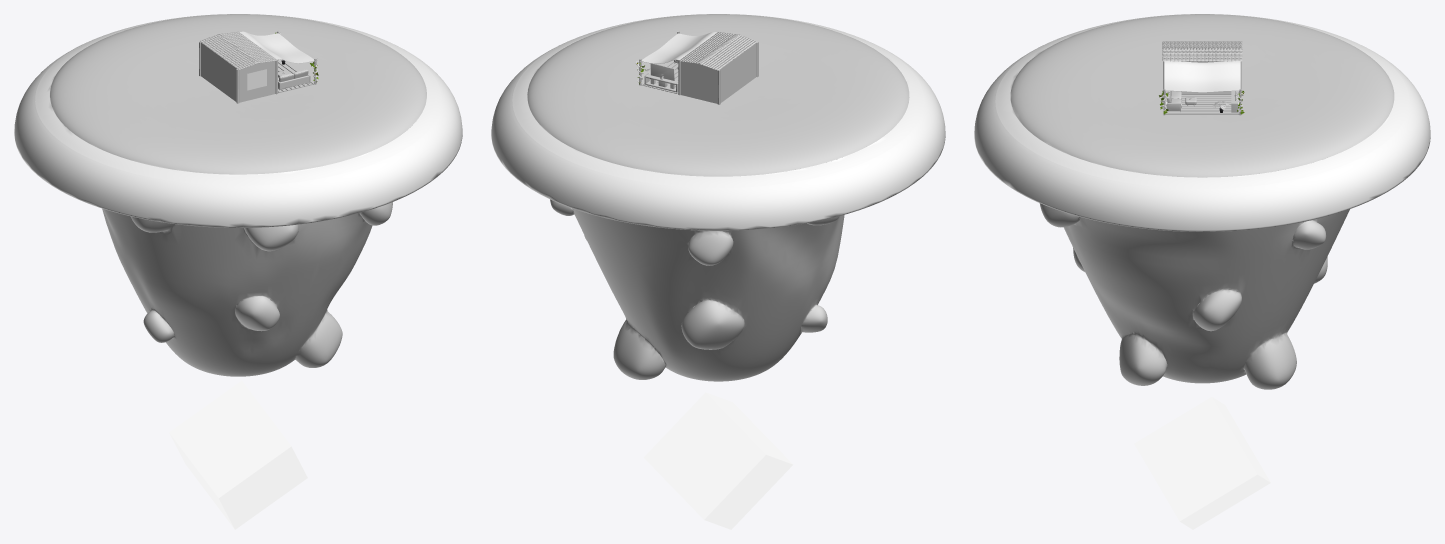
File: astroid-transformed.glb
The picture shows the model from 3 angles, left to right: view 1: azimuth 30°, elevation 25°; view 2: azimuth 150°, elevation 25°; view 3: azimuth 270°, elevation 25°; orthographic projection.
Visible parts, largest first — view 1: Home; view 2: Home; view 3: Home.
Part boxes in pixels (x1=…): Home: x1=14, y1=14, x2=462, y2=529; Home: x1=491, y1=14, x2=945, y2=529; Home: x1=974, y1=14, x2=1430, y2=529.
Bounding box in the file's own units: 30 × 35.17 × 30.
9 materials, 1 textured.
